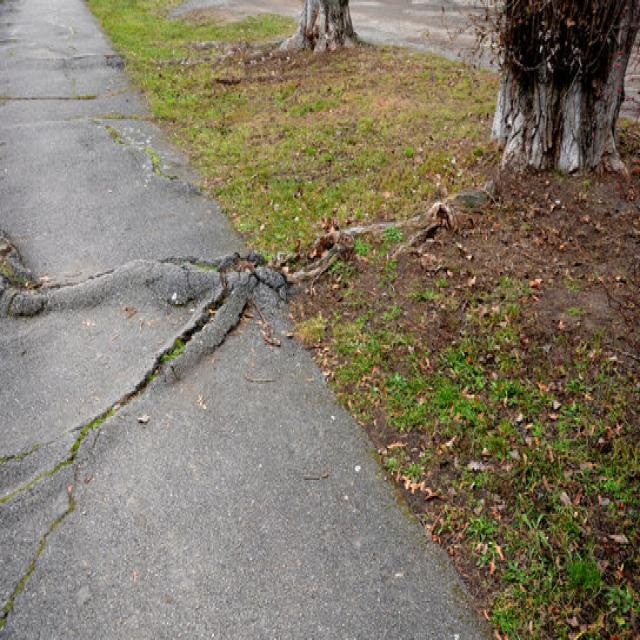Pothole: (57, 57, 520, 640)
